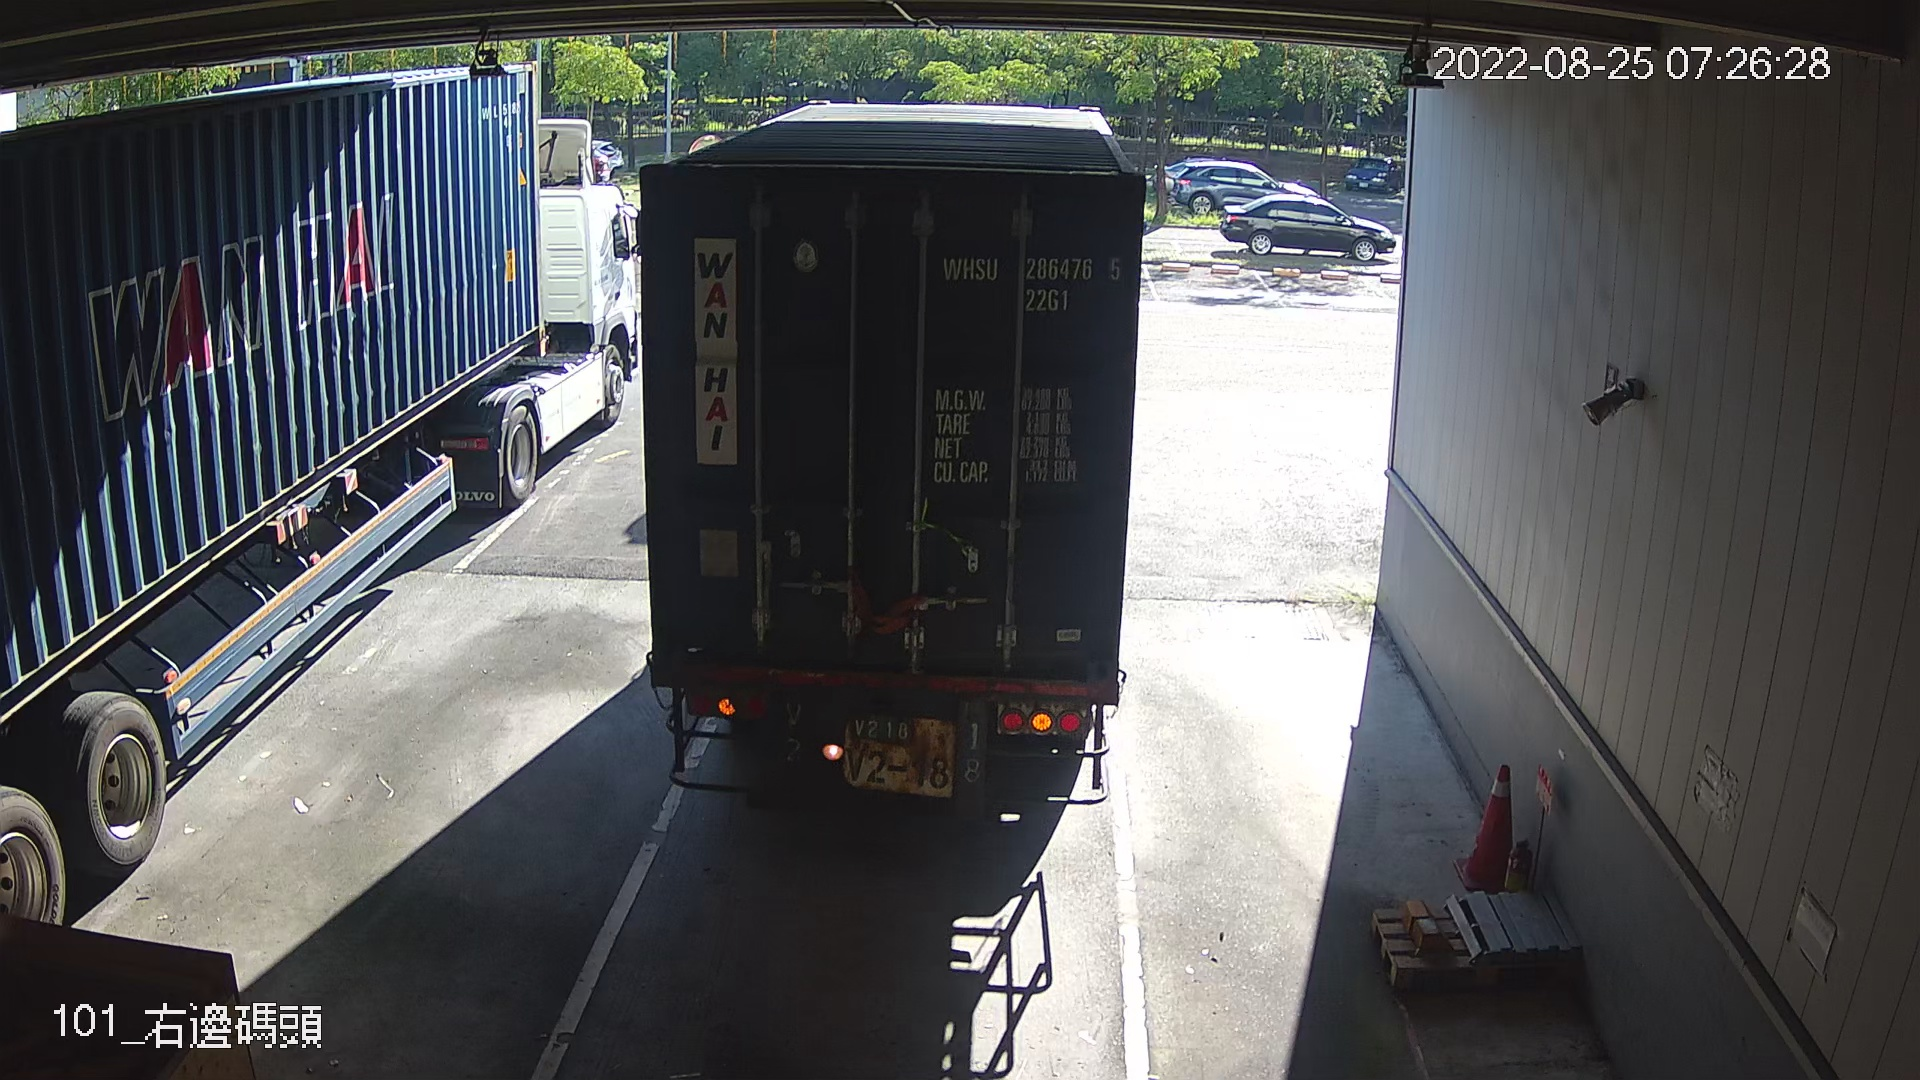container: (938, 245, 1126, 322)
